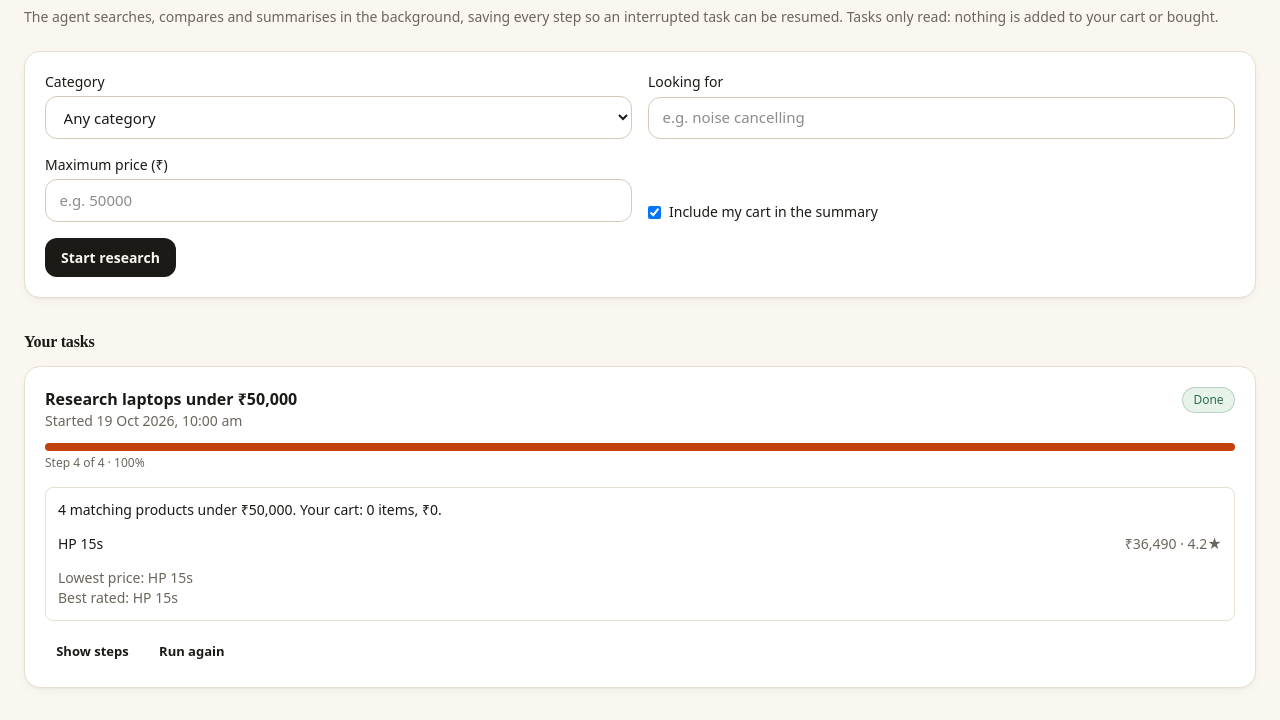
Test: TasksPage › shows each step, including retries and why a step was skipped
(page scrolled)
Click the button "Show steps".
click(92, 652)  # box [45,637,140,667]
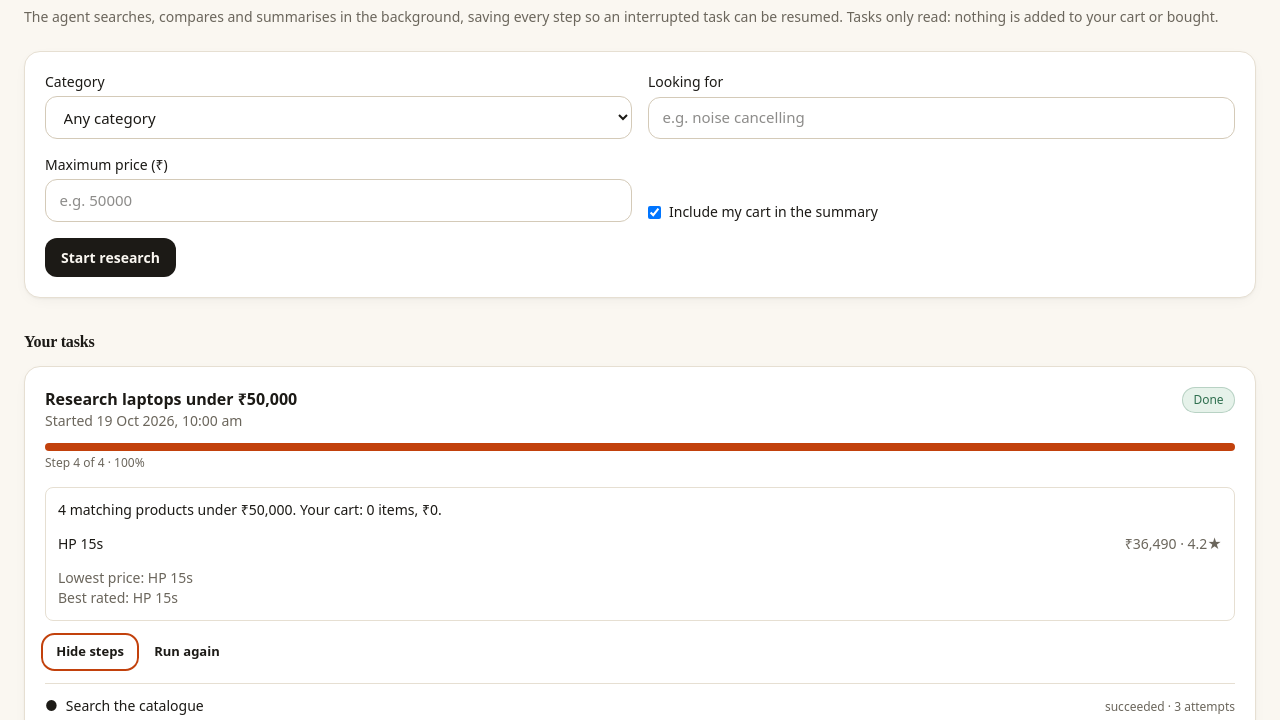
Result: the number of list items with test id "task-step" is 2
Result: the list item with test id "task-step" shows "Search the catalogue" at [66,696,204,715]
Result: the list item with test id "task-step" shows "3 attempts" at [1165,698,1235,715]
